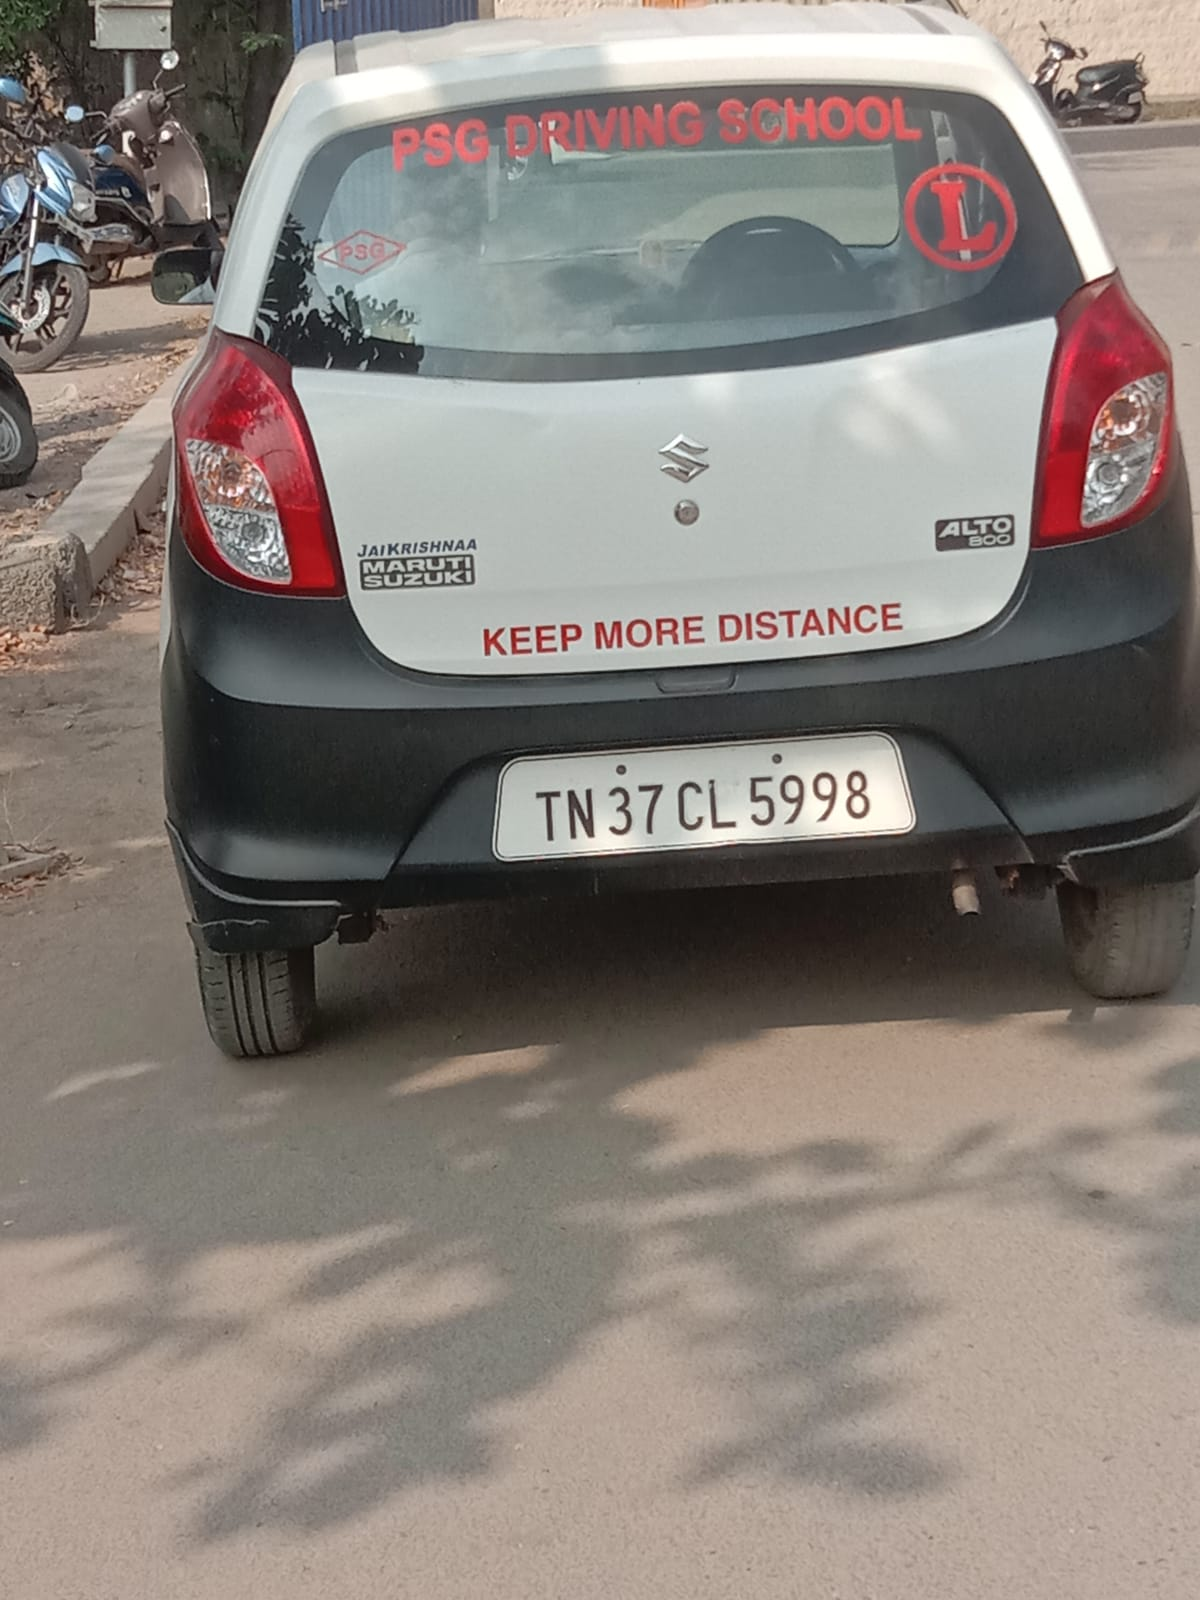car: (182, 27, 1200, 1075)
numberplate: (490, 719, 923, 872)
